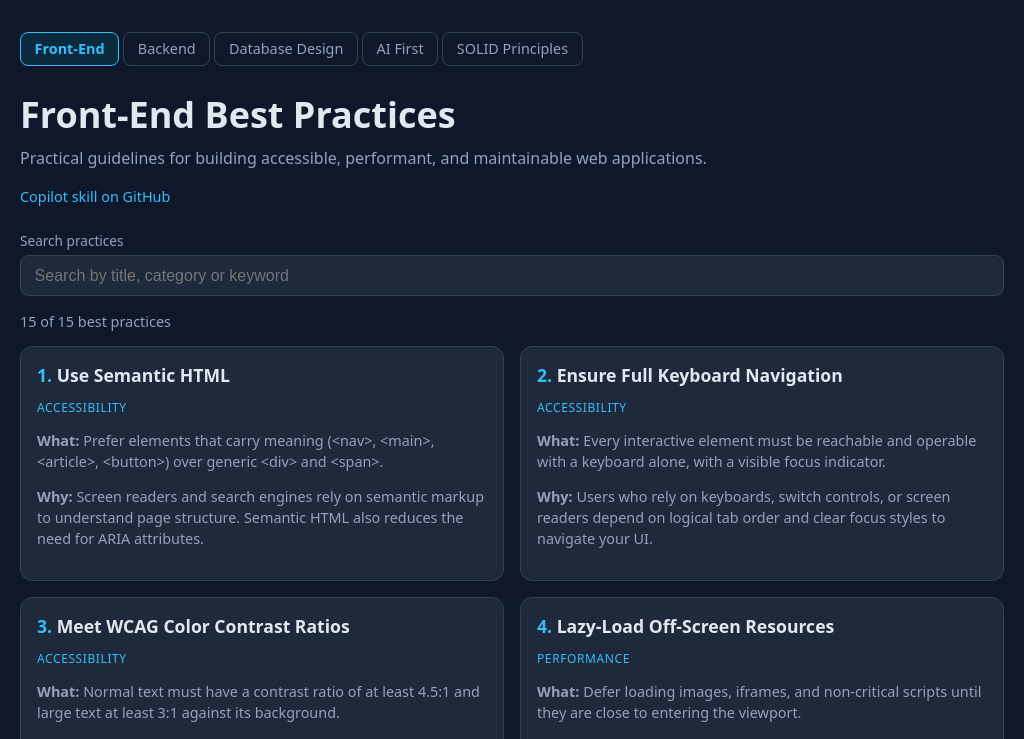
Test: BestPracticesPage › switches to the backend section when its tab is clicked
The image size is (1024, 739).
Click the link "Backend".
click(167, 49)  # box x1=123 y1=32 x2=210 y2=66
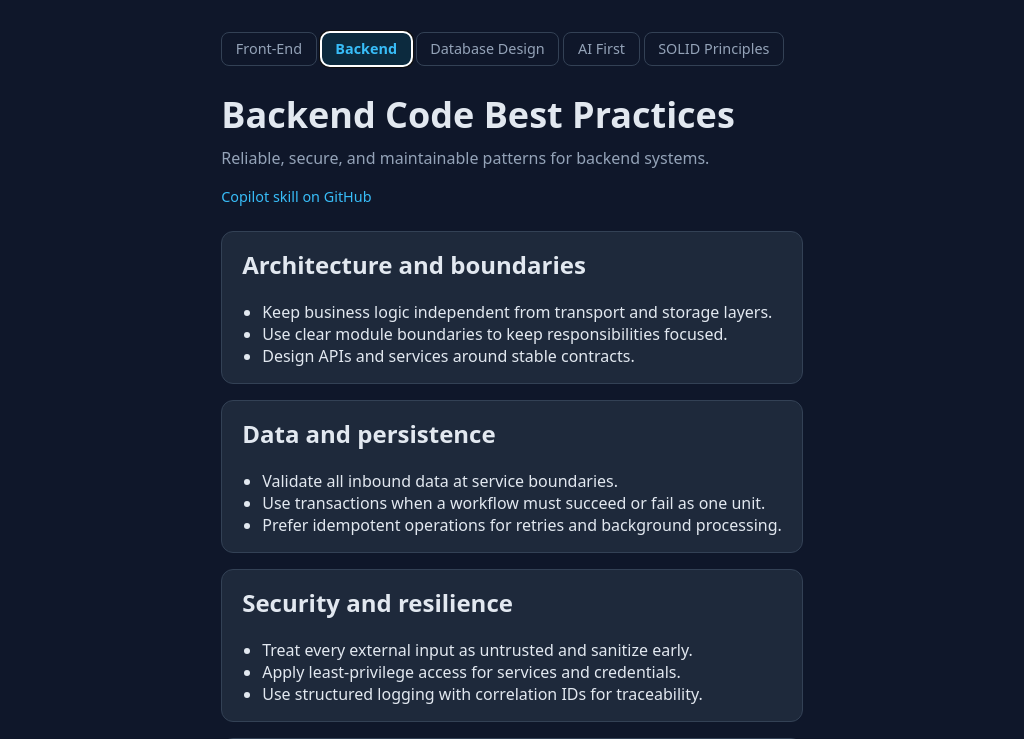
Expected: the heading "Backend Code Best Practices" is shown, x1=221 y1=90 x2=803 y2=139
